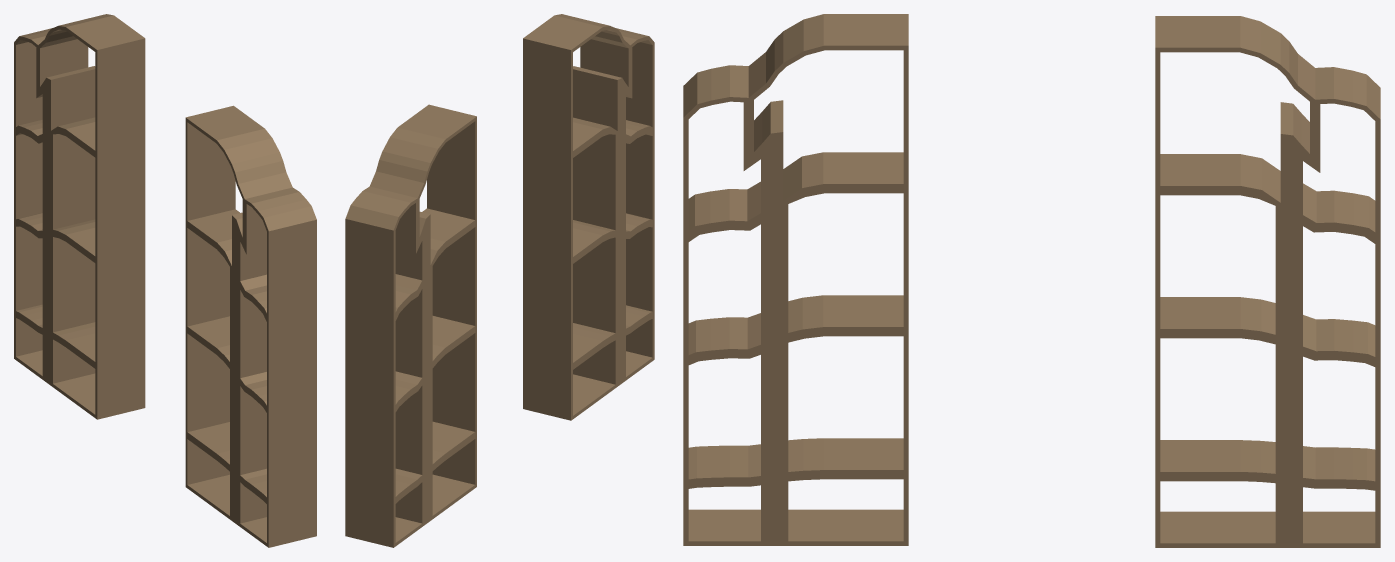
File: JanelaLonga.fbx
The picture shows the model from 3 angles, left to right: view 1: azimuth 30°, elevation 25°; view 2: azimuth 150°, elevation 25°; view 3: azimuth 270°, elevation 25°; orthographic projection. The views are drawn at different scales.
Parts seen in each view (by area): view 1: JanelaLonga; view 2: JanelaLonga; view 3: JanelaLonga.
Boxes of the visible parts, <box> form: JanelaLonga: <box>14,14,316,547</box>; JanelaLonga: <box>345,14,654,547</box>; JanelaLonga: <box>683,14,1380,547</box>.
Size of the model in its own units: 108 by 751 by 948.
